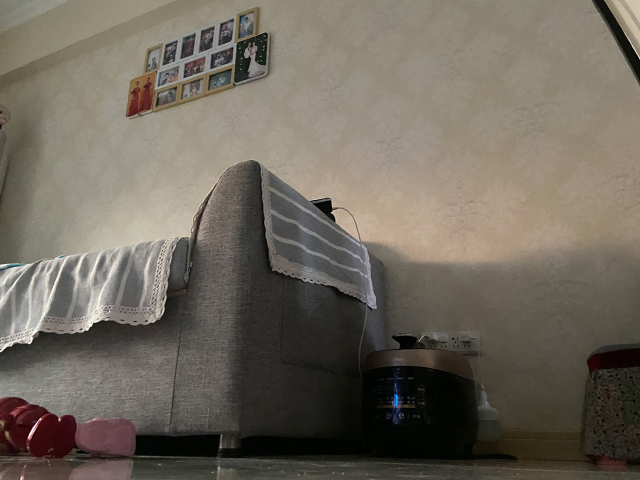sofa: (1, 158, 391, 460)
stool: (579, 340, 640, 467)
